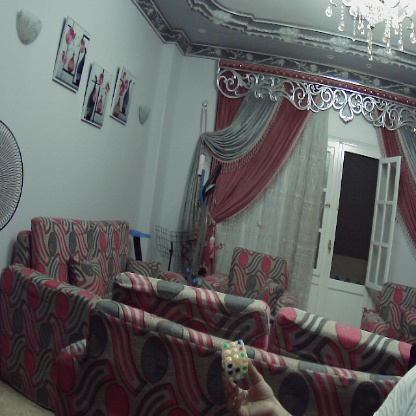Rubix Cube: (221, 340, 251, 381)
